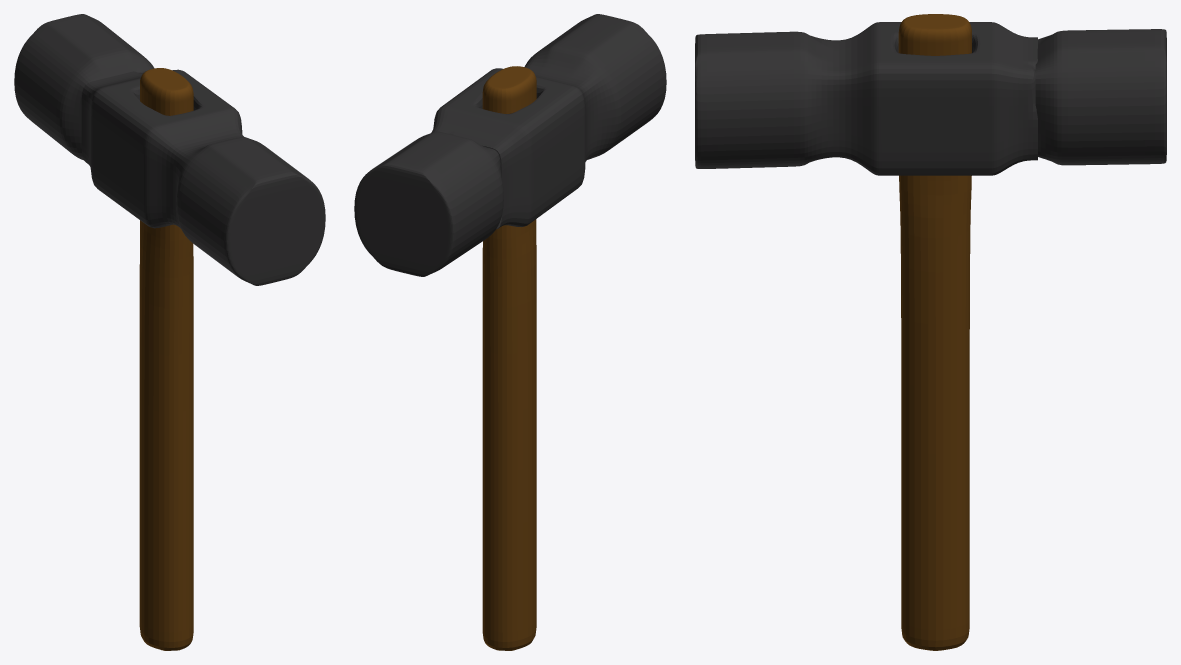
The model's file is hammer.fbx.
3 views of the same model, side by side, from view 1: azimuth 30°, elevation 25°; view 2: azimuth 150°, elevation 25°; view 3: azimuth 270°, elevation 25° (orthographic). The views are drawn at different scales.
Parts seen in each view (by area): view 1: Cube.001, Cylinder; view 2: Cube.001, Cylinder; view 3: Cube.001, Cylinder.
Boxes of the visible parts, box(x1,y1,x2,y2) form: Cube.001: box(14, 14, 325, 285); Cylinder: box(139, 68, 193, 650); Cube.001: box(354, 14, 666, 276); Cylinder: box(482, 66, 536, 650); Cube.001: box(695, 22, 1166, 175); Cylinder: box(898, 14, 971, 650).
Size of the model in its own units: 210 by 1113 by 764.
